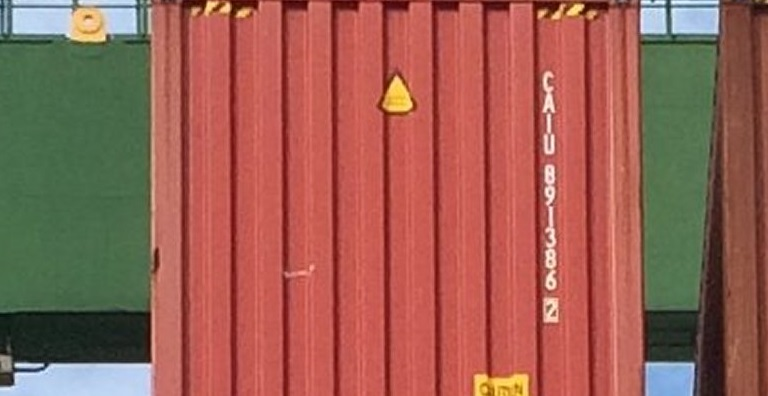container_no_door: (150, 2, 644, 396)
